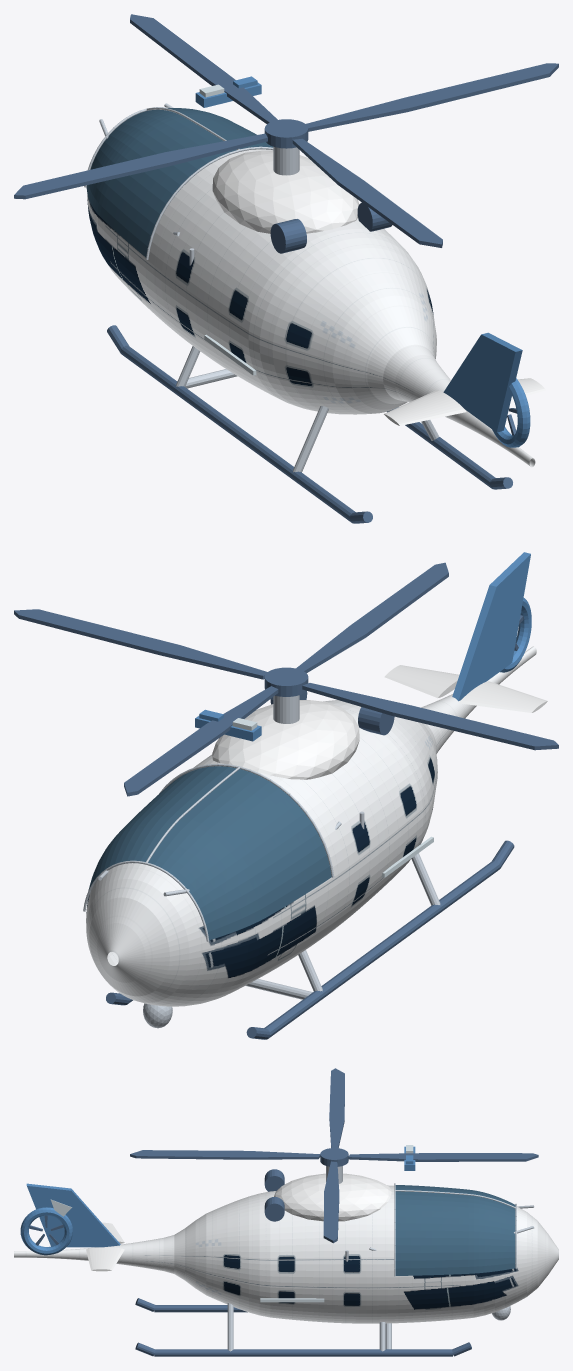
Rendered from 08_city_patrol_police.glb.
3 views of the same model, one above another, from view 1: azimuth 30°, elevation 25°; view 2: azimuth 150°, elevation 25°; view 3: azimuth 270°, elevation 25° (orthographic). The views are drawn at different scales.
Visible parts, largest first — view 1: textured_airframe, rotor_main, glass-details, body-details, dark-details, accent-details, metal-details, trim-details; view 2: textured_airframe, glass-details, rotor_main, body-details, accent-details, dark-details, metal-details, trim-details; view 3: textured_airframe, glass-details, rotor_main, body-details, dark-details, accent-details, metal-details, trim-details.
Boxes of the visible parts, box(x1,y1,x2,y2) form: textured_airframe: box(87, 149, 535, 467); rotor_main: box(14, 14, 558, 247); glass-details: box(86, 108, 273, 257); body-details: box(212, 150, 545, 425); dark-details: box(107, 202, 512, 523); accent-details: box(195, 76, 530, 447); metal-details: box(84, 103, 439, 472); trim-details: box(199, 84, 256, 375); textured_airframe: box(86, 646, 536, 1006); glass-details: box(88, 766, 331, 940); rotor_main: box(14, 562, 558, 796); body-details: box(212, 665, 547, 779); accent-details: box(195, 552, 531, 741); dark-details: box(106, 691, 514, 1039); metal-details: box(83, 695, 440, 1028); trim-details: box(232, 718, 433, 877); textured_airframe: box(14, 1185, 558, 1323); glass-details: box(395, 1185, 515, 1275); rotor_main: box(130, 1068, 538, 1243); body-details: box(86, 1173, 391, 1271); dark-details: box(135, 1169, 471, 1356); accent-details: box(20, 1146, 415, 1255); metal-details: box(227, 1166, 534, 1351); trim-details: box(50, 1145, 413, 1302).
Size of the model in its own units: 11.5 by 5.62 by 15.34.
Materials: 8 (1 with a texture image).
